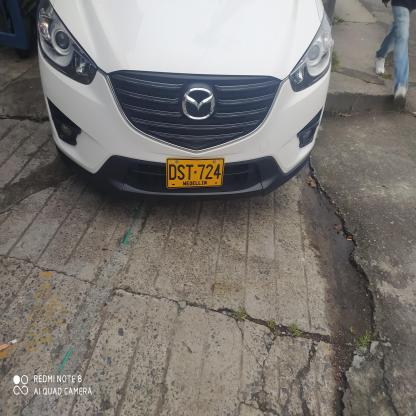placa: (164, 156, 226, 191)
